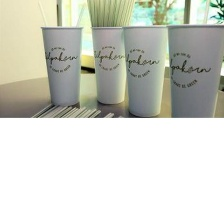paper_cup: (163, 21, 224, 117), (118, 21, 172, 118), (37, 22, 85, 109), (87, 23, 133, 106)
